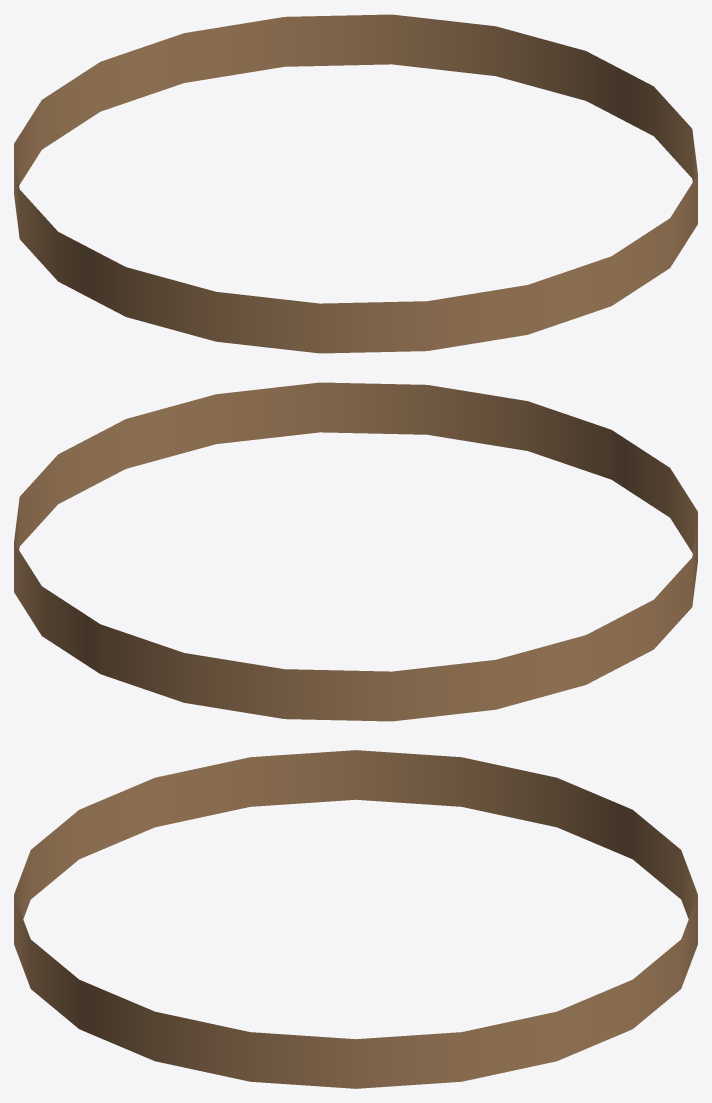
Rendered from Dido_gun_cal133_x2_001_Dido_gun_cal133_x2_001_Material_Material.obj.
The picture shows the model from 3 angles, top to bottom: view 1: azimuth 30°, elevation 25°; view 2: azimuth 150°, elevation 25°; view 3: azimuth 270°, elevation 25°; orthographic projection.
Visible parts, largest first — view 1: Dido_gun_cal133_x2_001_Dido_gun_cal133_x2_001_Material_Material.; view 2: Dido_gun_cal133_x2_001_Dido_gun_cal133_x2_001_Material_Material.; view 3: Dido_gun_cal133_x2_001_Dido_gun_cal133_x2_001_Material_Material..
Boxes of the visible parts, box(x1,y1,x2,y2) form: Dido_gun_cal133_x2_001_Dido_gun_cal133_x2_001_Material_Material.: box(14, 14, 697, 353); Dido_gun_cal133_x2_001_Dido_gun_cal133_x2_001_Material_Material.: box(14, 382, 697, 721); Dido_gun_cal133_x2_001_Dido_gun_cal133_x2_001_Material_Material.: box(14, 750, 697, 1088).
Size of the model in its own units: 3.68 by 0.2946 by 3.68.
